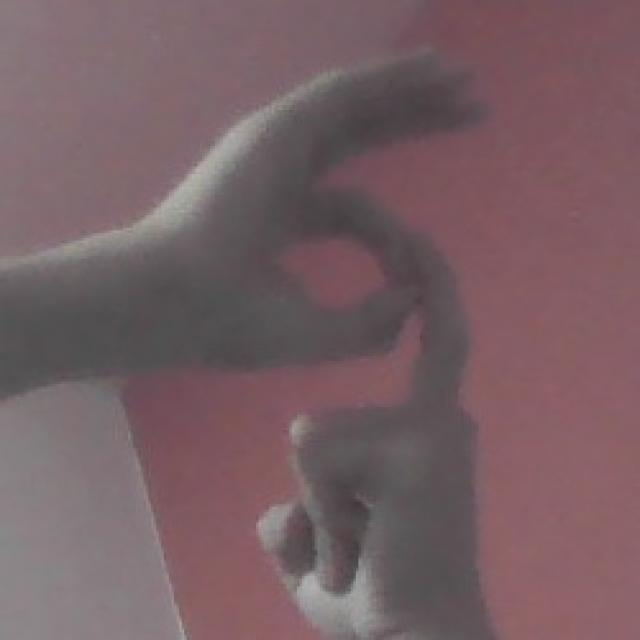Alphabet-P: (134, 39, 518, 640)
